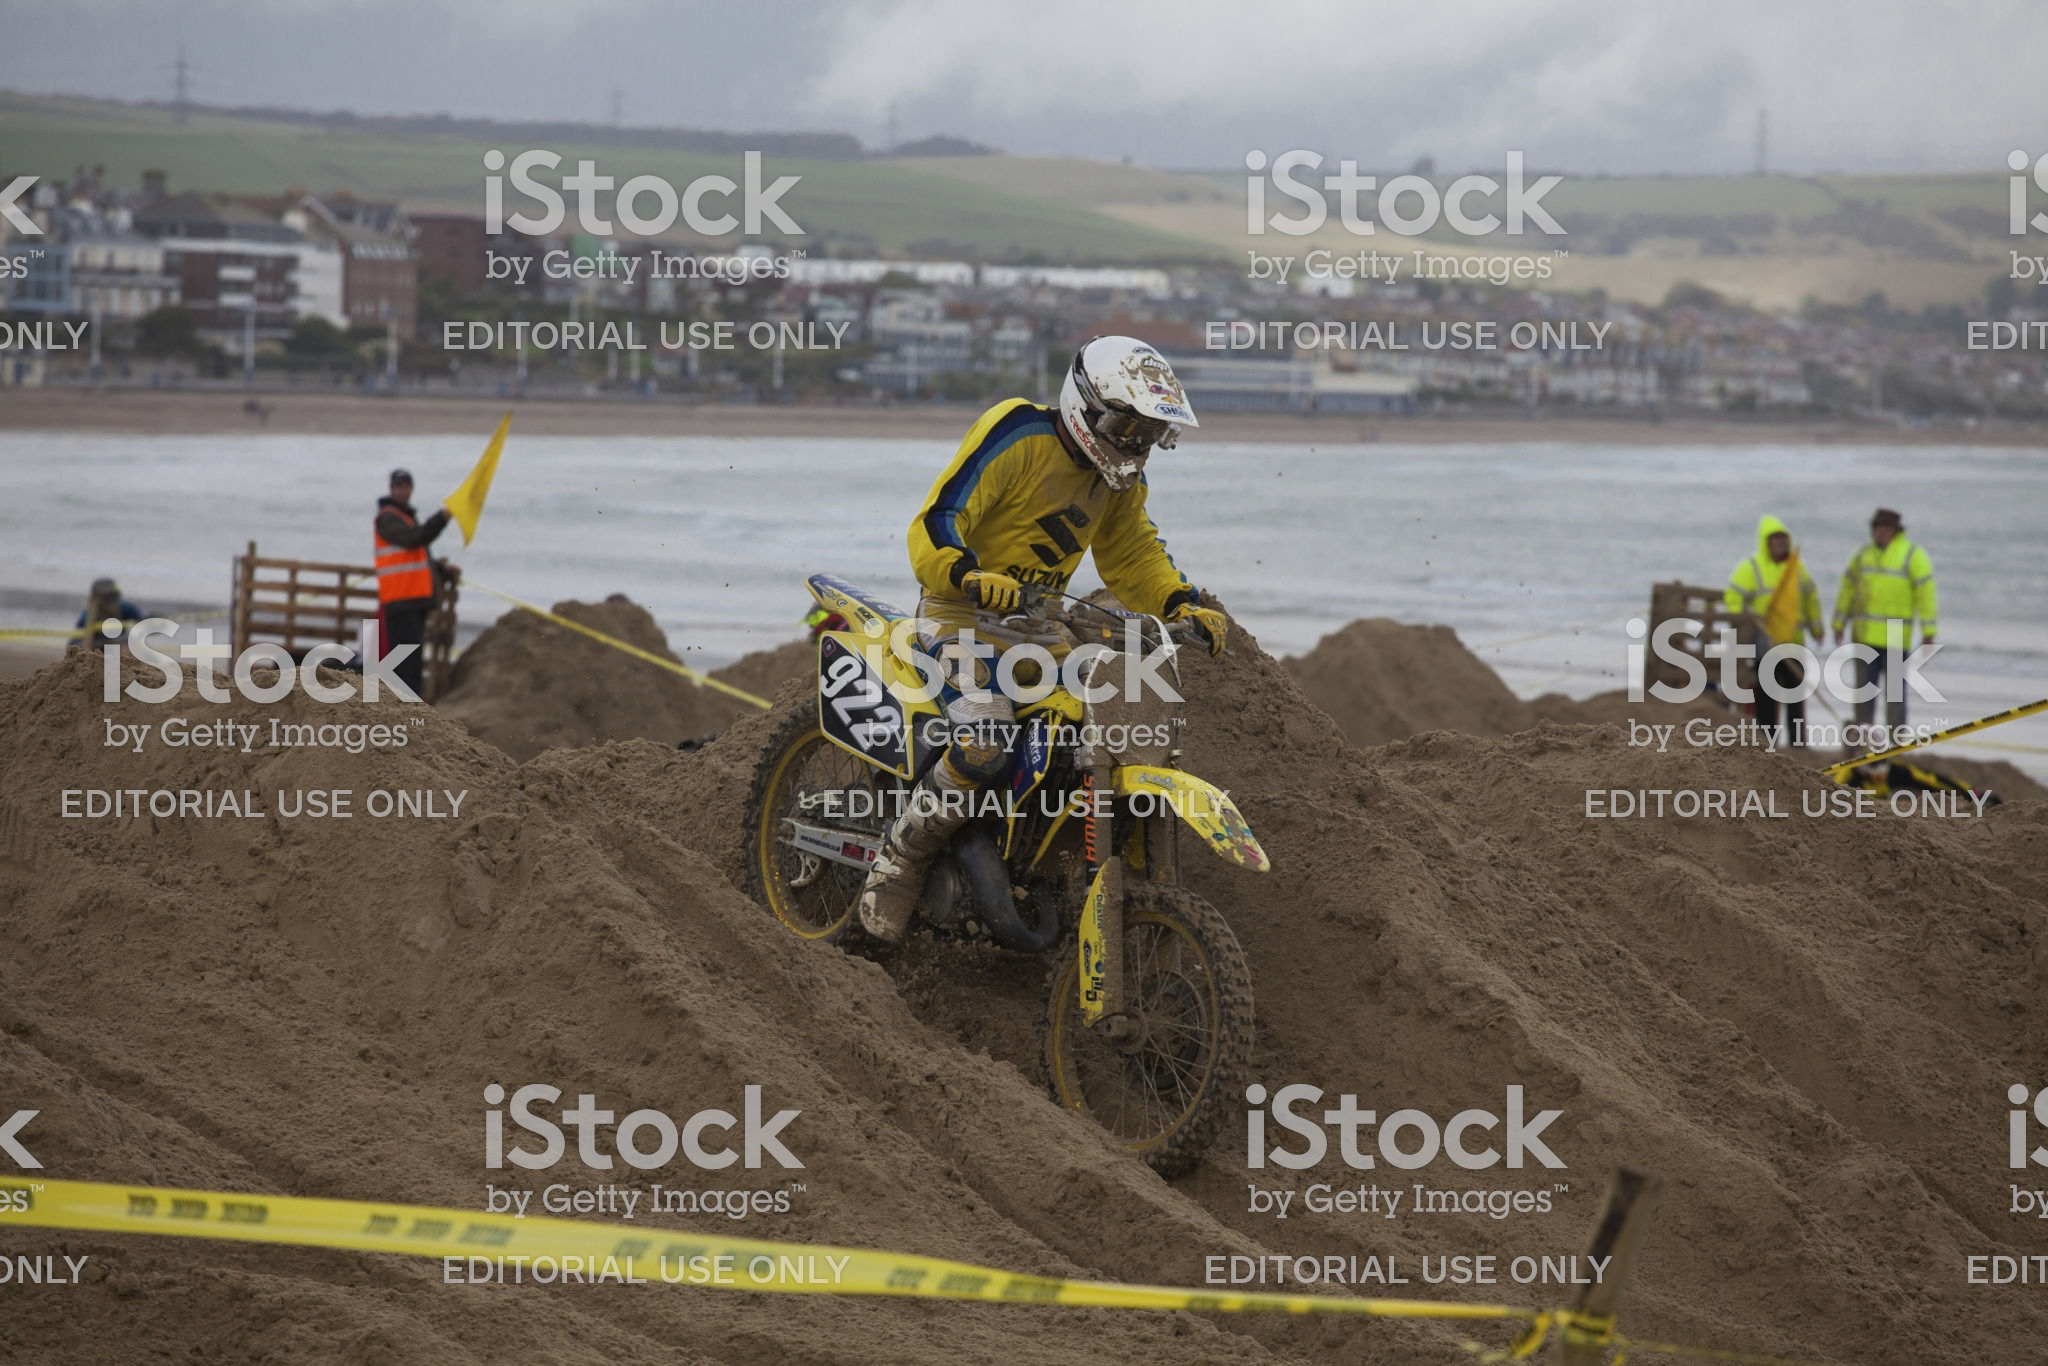helmet: (1059, 335, 1190, 500)
